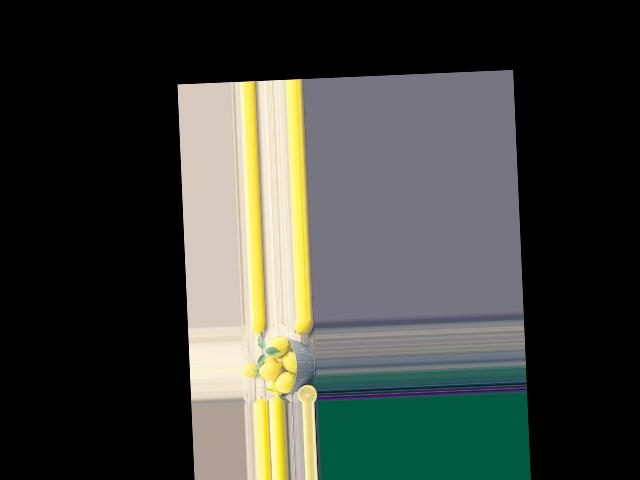lemon: (274, 368, 301, 393)
